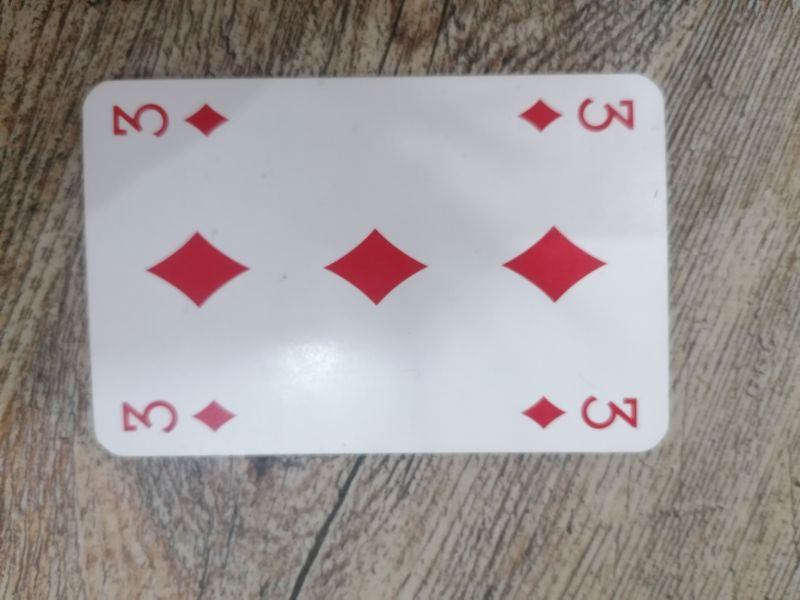3d: (103, 98, 235, 139), (516, 390, 641, 433), (513, 95, 639, 136), (117, 397, 241, 434)
